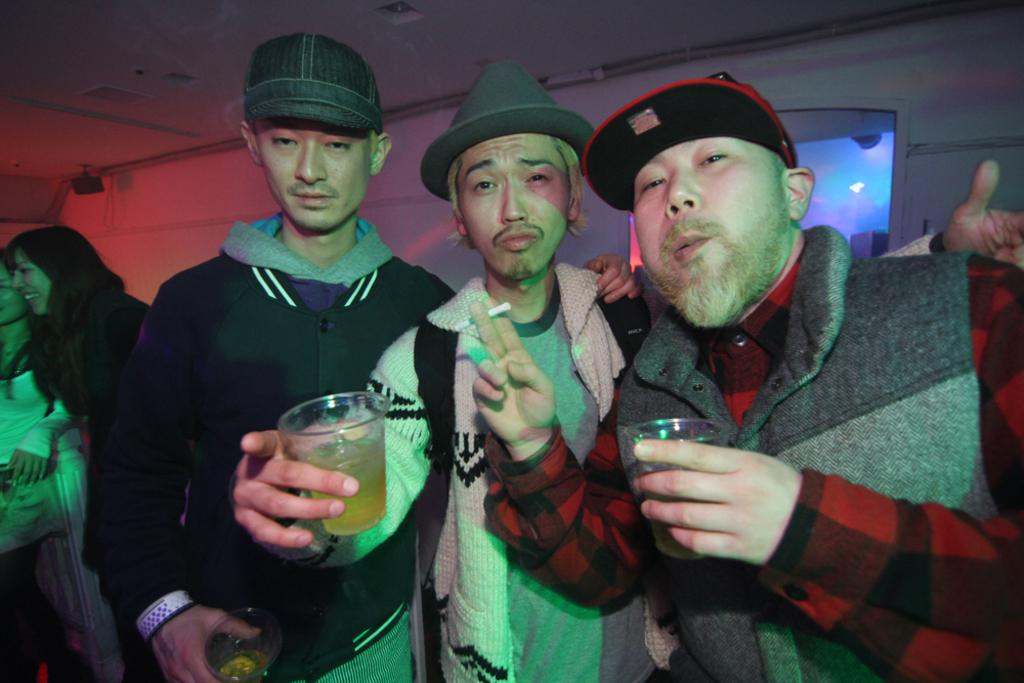Hat: (579, 69, 798, 212), (418, 61, 598, 200), (242, 30, 381, 140)
